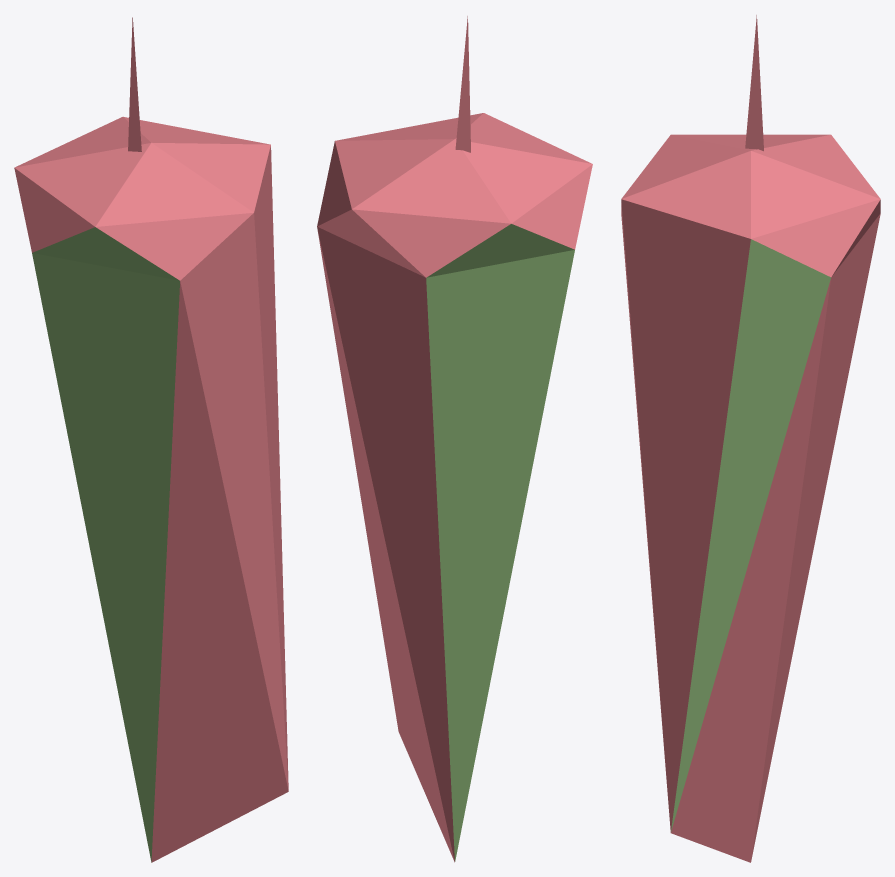
The model's file is DET-flower-02.glb.
The picture shows the model from 3 angles, left to right: view 1: azimuth 30°, elevation 25°; view 2: azimuth 150°, elevation 25°; view 3: azimuth 270°, elevation 25°; orthographic projection.
Parts seen in each view (by area): view 1: DET-flower-02; view 2: DET-flower-02; view 3: DET-flower-02.
Boxes of the visible parts, x1,y1,x2,y2 form: DET-flower-02: (14, 17, 288, 862); DET-flower-02: (317, 16, 592, 862); DET-flower-02: (621, 15, 880, 862).
Bounding box in the file's own units: 0.2147 × 0.73 × 0.2042.
